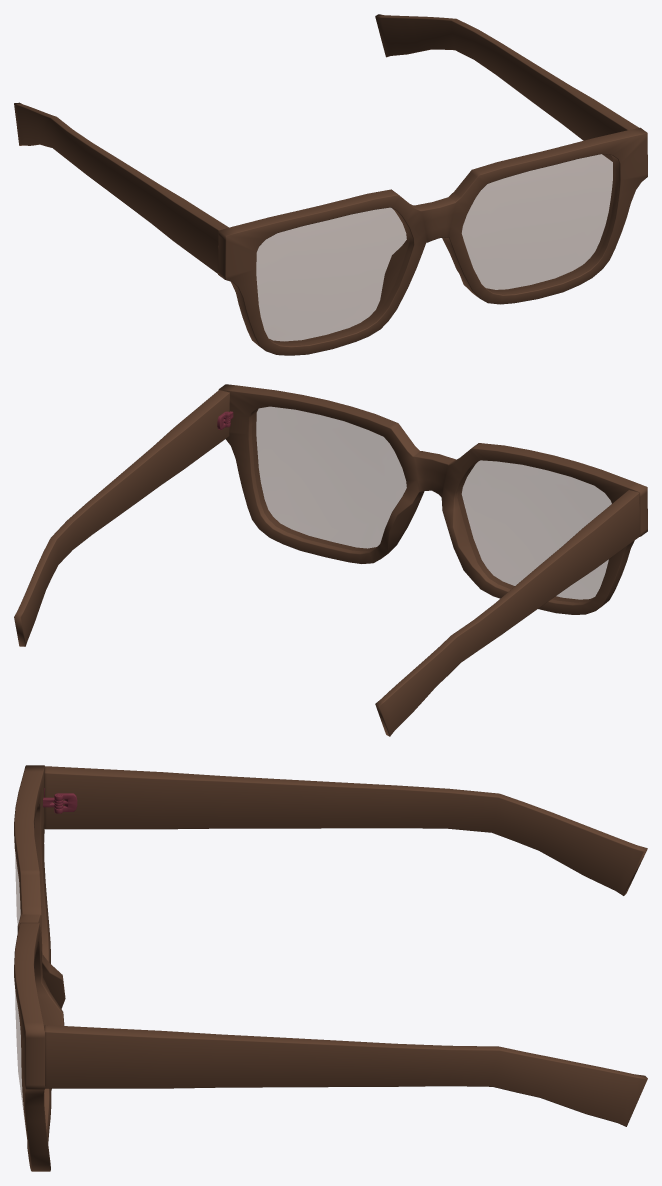
Rendered from yuvarlak-retro-bordo.glb.
3 renders of one model, top to bottom at view 1: azimuth 30°, elevation 25°; view 2: azimuth 150°, elevation 25°; view 3: azimuth 270°, elevation 25°, orthographic. The views are drawn at different scales.
Visible parts, largest first — view 1: OPTIK_PRODUCT_277; view 2: OPTIK_PRODUCT_277; view 3: OPTIK_PRODUCT_277.
Boxes of the visible parts, box(x1,y1,x2,y2) form: OPTIK_PRODUCT_277: box(14, 14, 647, 355); OPTIK_PRODUCT_277: box(14, 384, 647, 736); OPTIK_PRODUCT_277: box(14, 765, 647, 1171).
Size of the model in its own units: 0.1534 by 0.0504 by 0.1538.
